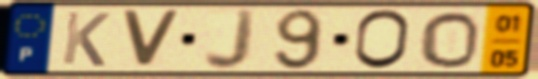9: (272, 7, 329, 72)
J: (201, 6, 260, 72)
K: (58, 10, 113, 69)
O: (350, 8, 413, 72), (418, 10, 482, 70)
V: (118, 8, 184, 70)
